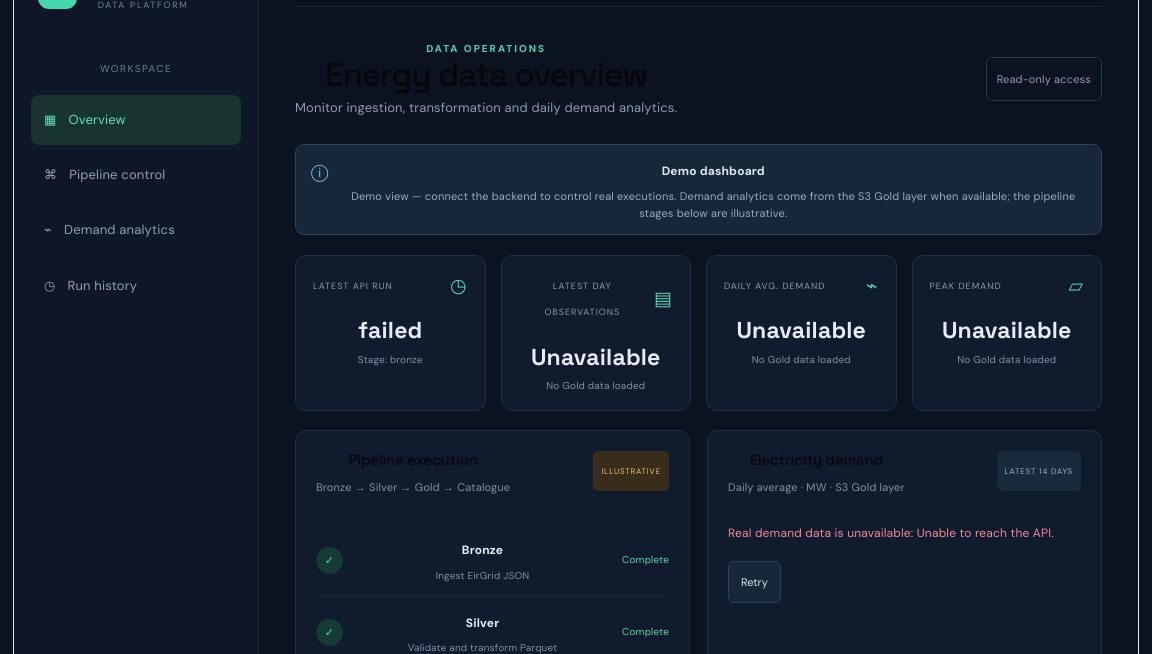
it: API failure handling › shows a network failure and recovers on Retry
Expected: the message "Real demand data is unavailable: Unable to reach the API. Retry" is shown, [728,520,1081,603]
Click the button "Retry": coordinates (754, 582) [728,560,781,603]
(page scrolled)
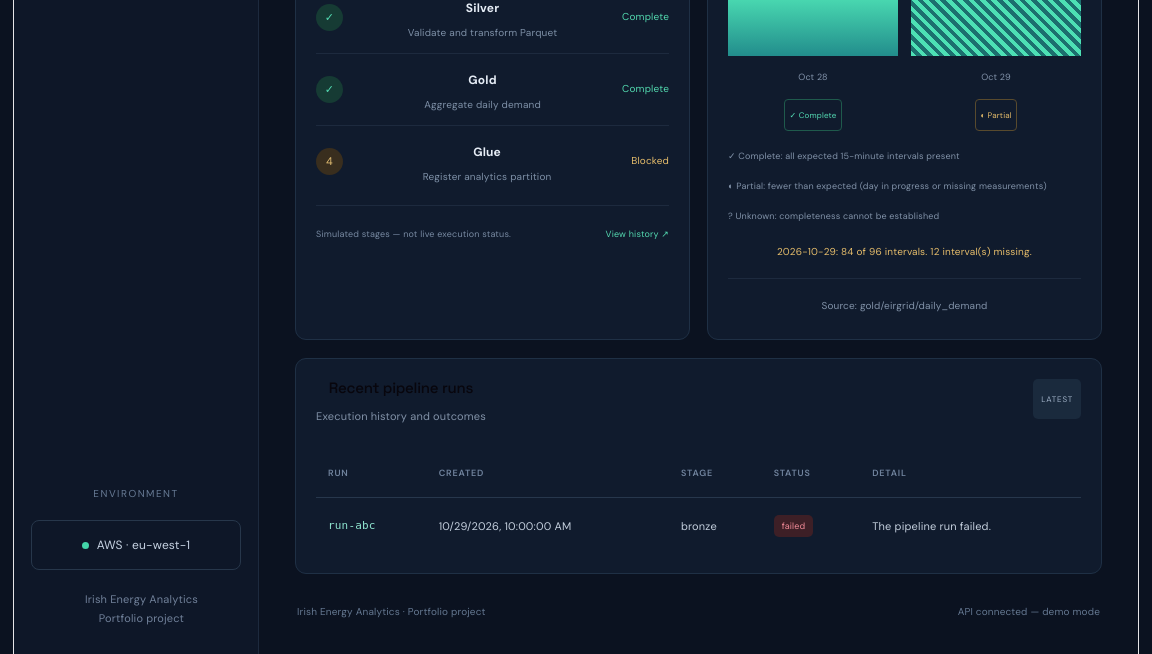
Expected: the text "Source: gold/eirgrid/daily_demand" is shown, [728,278,1081,319]
